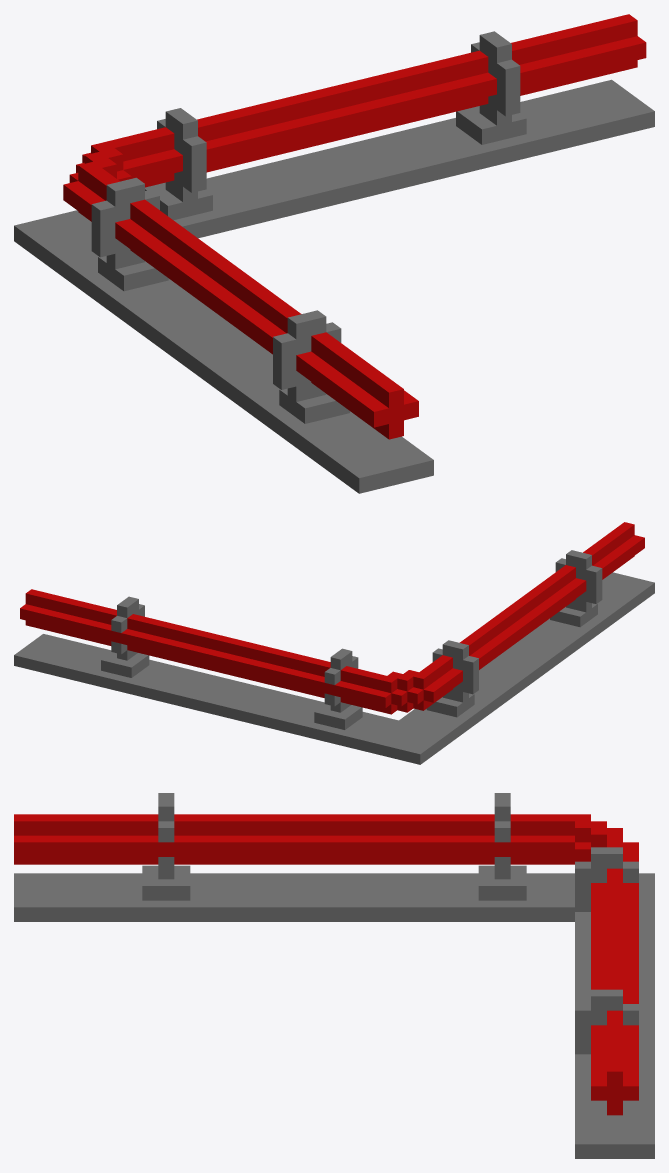
The model's file is All-3-Zabor_6.obj.
The picture shows the model from 3 angles, top to bottom: view 1: azimuth 30°, elevation 25°; view 2: azimuth 150°, elevation 25°; view 3: azimuth 270°, elevation 25°; orthographic projection. The views are drawn at different scales.
Visible parts, largest first — view 1: Zabor_6; view 2: Zabor_6; view 3: Zabor_6.
Part boxes in pixels (x1,y1,x2,y2): Zabor_6: (14,14,654,493); Zabor_6: (14,522,654,764); Zabor_6: (14,793,654,1158).
Size of the model in its own units: 4 by 0.7 by 4.
Materials: 1 (1 with a texture image).
